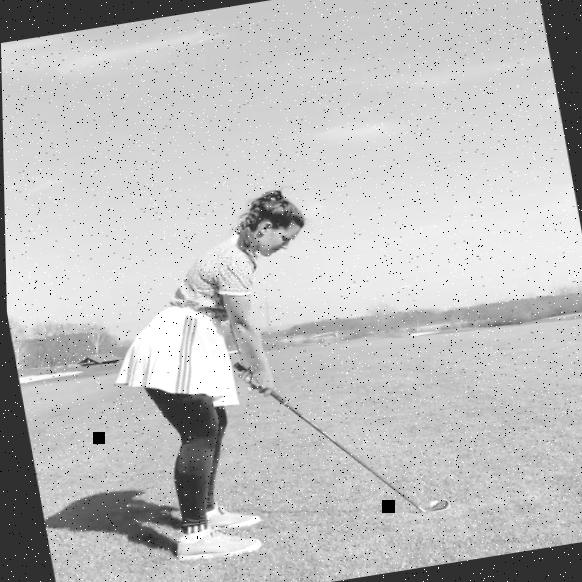ClubHead: (424, 497, 449, 512)
GolfBall: (427, 499, 436, 506)
